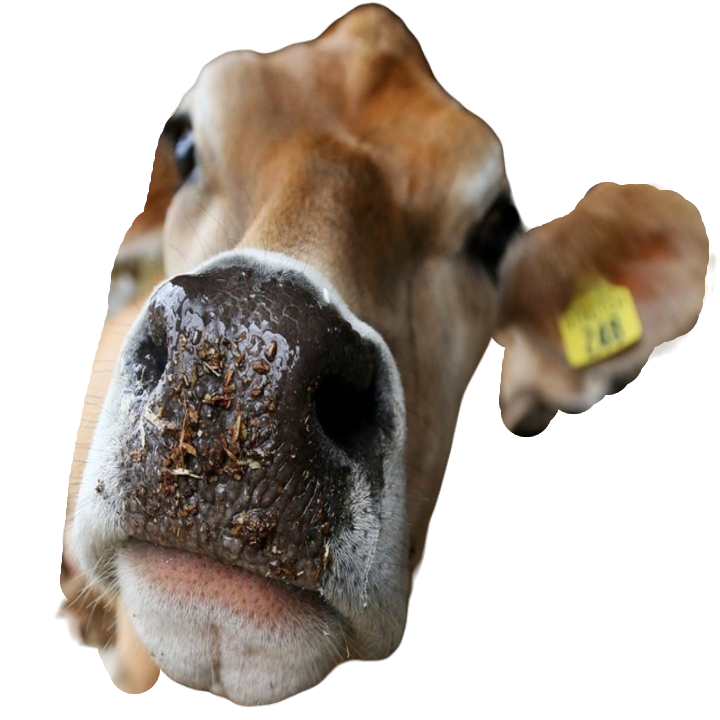Cow: (7, 0, 708, 706)
